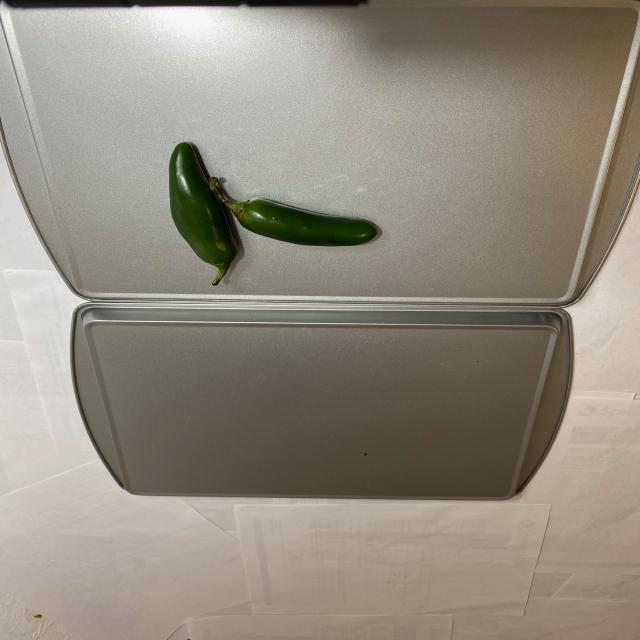chilli: (171, 142, 381, 288)
